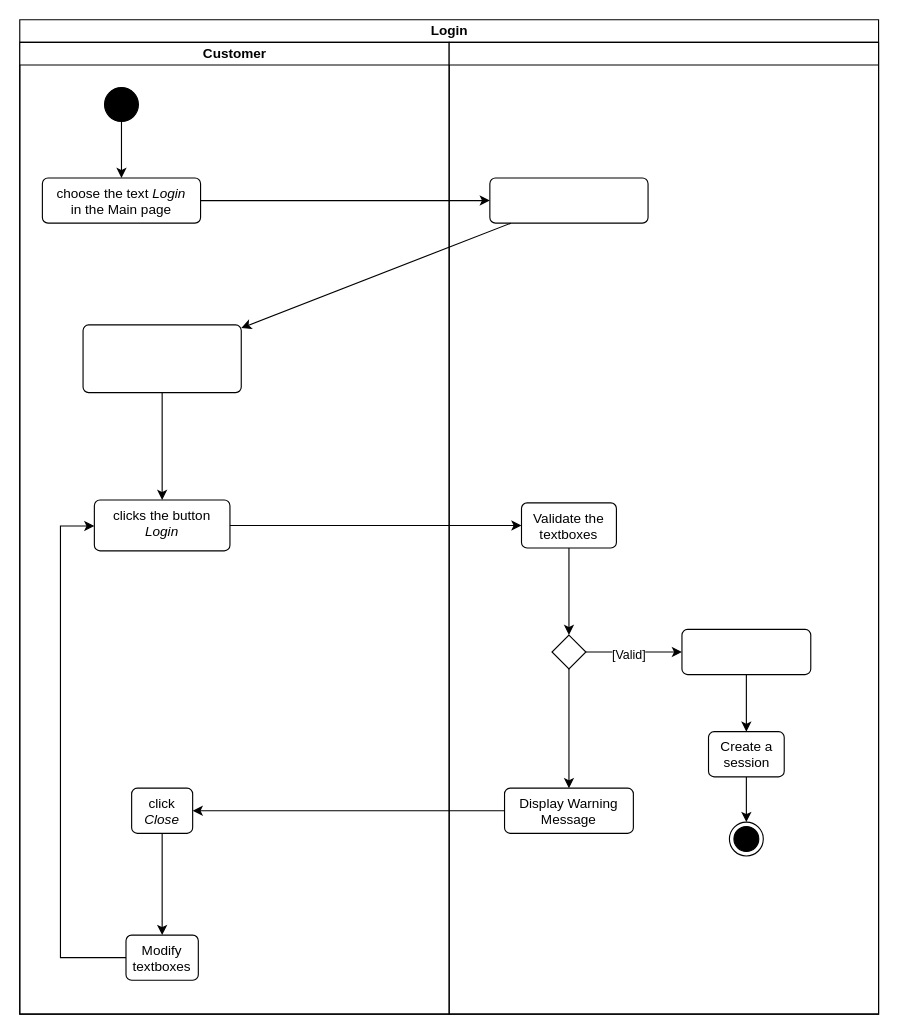
Some shapes in this 898 by 1034 pixel diagram are drawn without their labels. Here are the shapes that lost their labels. From the top down, the box of each, then its label:
(489, 177, 648, 223): Display the interface for the function
(82, 324, 241, 393): fill all textboxes: Username, and Password
(448, 41, 879, 1014): System
(681, 628, 811, 675): Display Success Message
